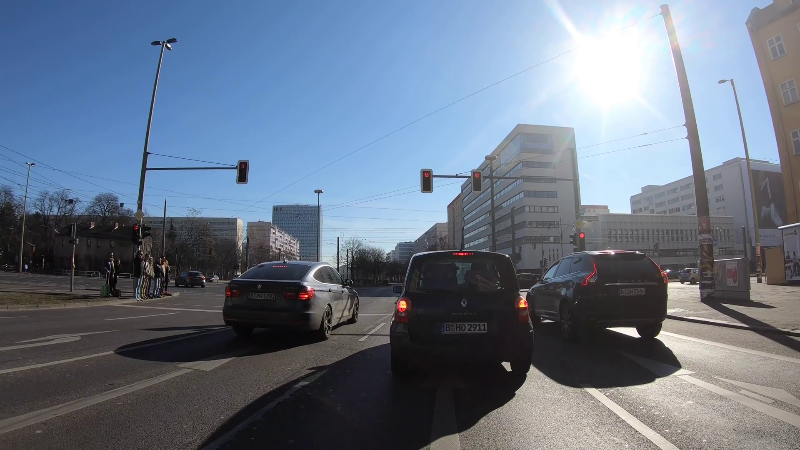Plate: (436, 320, 494, 338), (615, 286, 648, 297), (244, 291, 275, 301)
